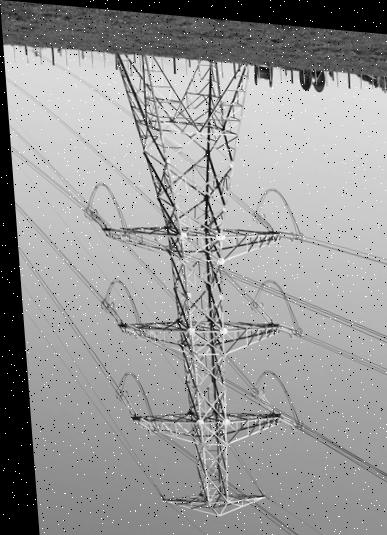tower: (81, 49, 322, 533)
